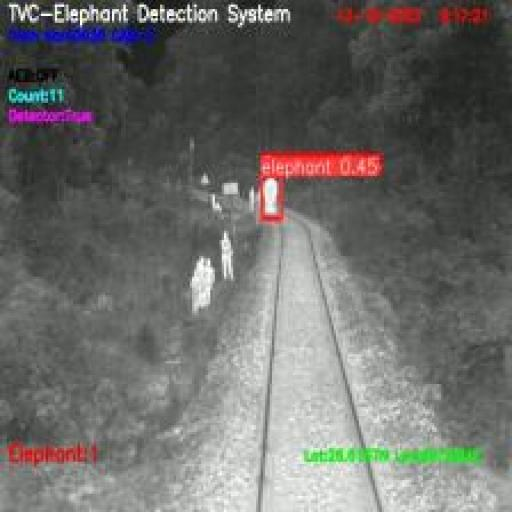Elephant: (261, 176, 281, 221)
